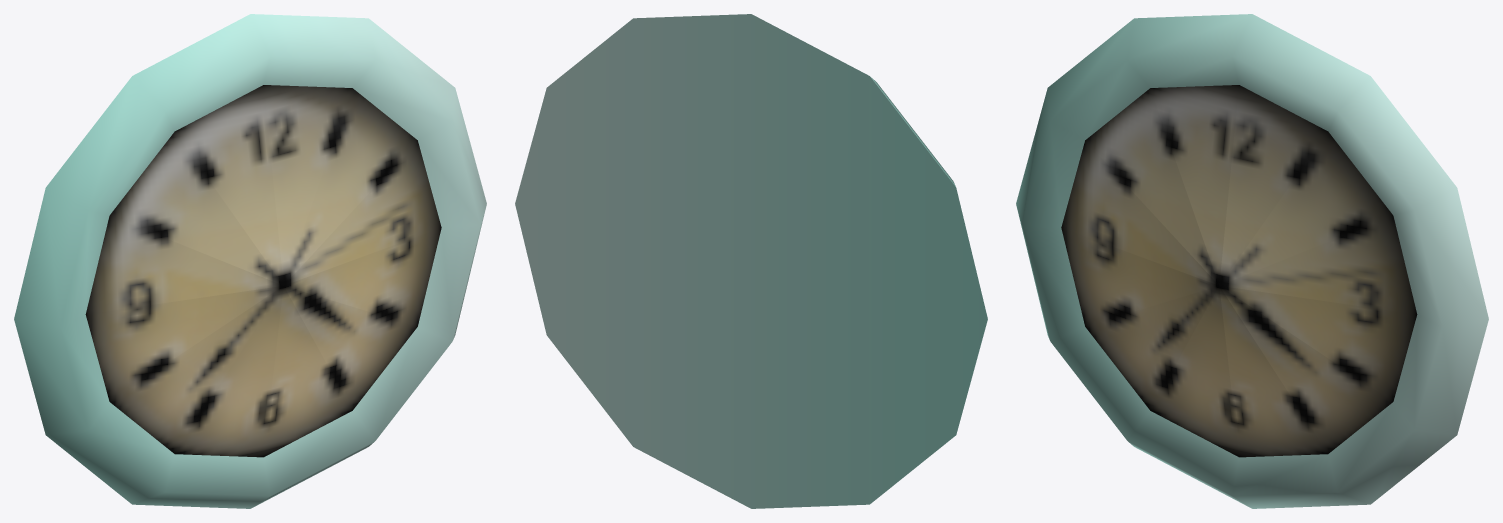
Rendered from Wall_Clock_C.FBX.
3 views of the same model, side by side, from view 1: azimuth 30°, elevation 25°; view 2: azimuth 150°, elevation 25°; view 3: azimuth 330°, elevation 25° (orthographic).
Visible parts, largest first — view 1: Wall_Clock; view 2: Wall_Clock; view 3: Wall_Clock.
Part boxes in pixels (box(x1,y1,x2,y2)): Wall_Clock: box(14, 14, 486, 508); Wall_Clock: box(515, 14, 987, 508); Wall_Clock: box(1016, 14, 1488, 508).
Size of the model in its own units: 118 by 118 by 14.32.
